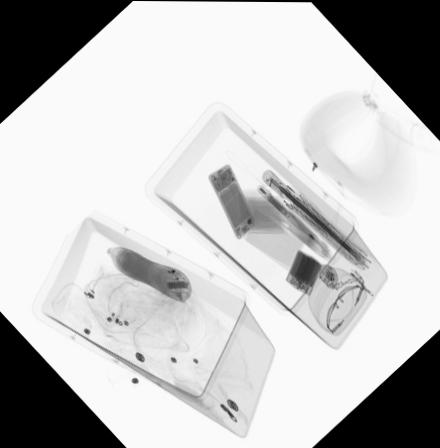Powerbank: (285, 246, 327, 297)
